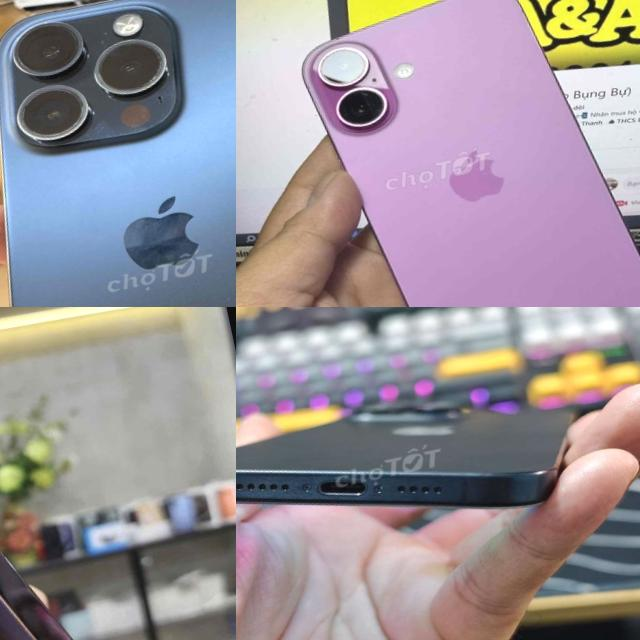gen_14: (0, 307, 155, 640)
gen_15: (236, 345, 602, 597), (0, 0, 236, 307)
gen_16: (274, 0, 640, 307)
